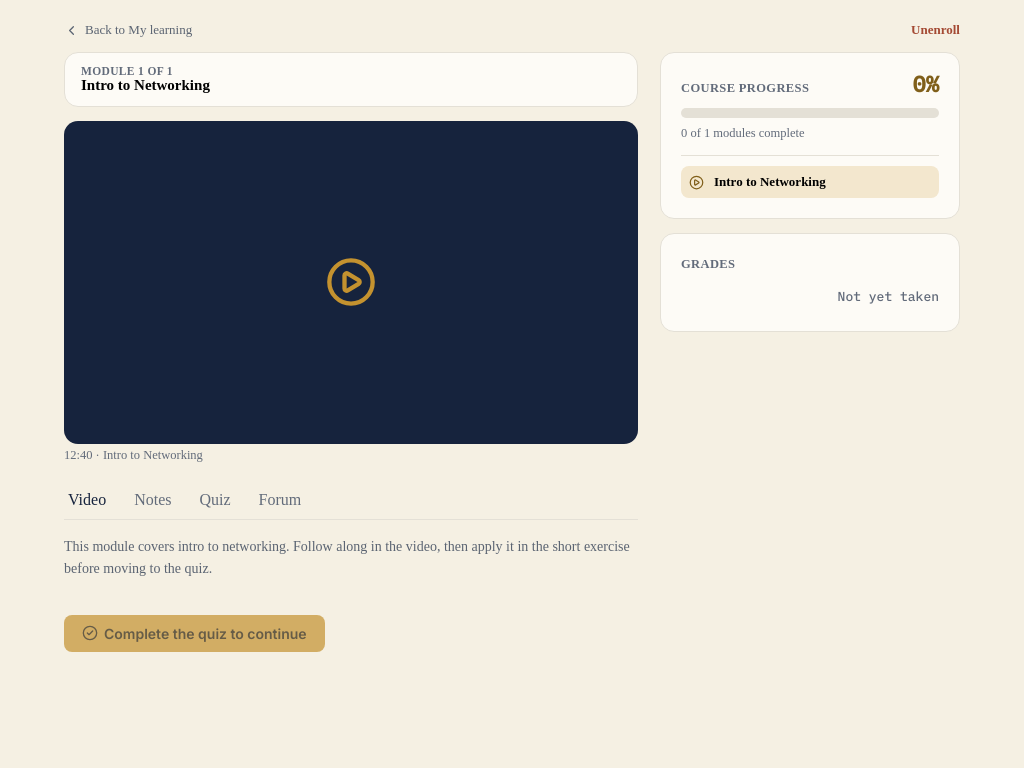
Scenario: LearningScreen — quiz completion gate (#205) › blocks Mark Complete until the module's quiz is taken, then unlocks after submitting
The image size is (1024, 768).
Check: the button "Complete the quiz to continue" is disabled, box [64,615,325,652]
Step 1. Click the tab "quiz" → [215, 500], box [196,481,235,519]
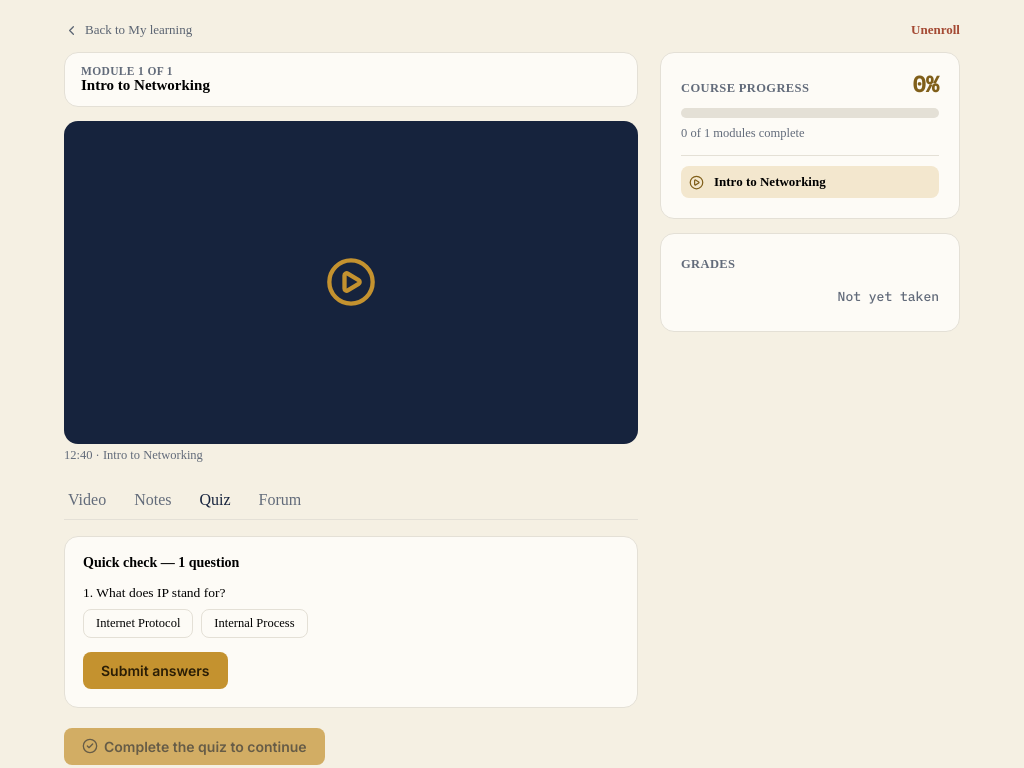
Step 2. Click the text "Internet Protocol" → [138, 623], box [83,609,193,638]
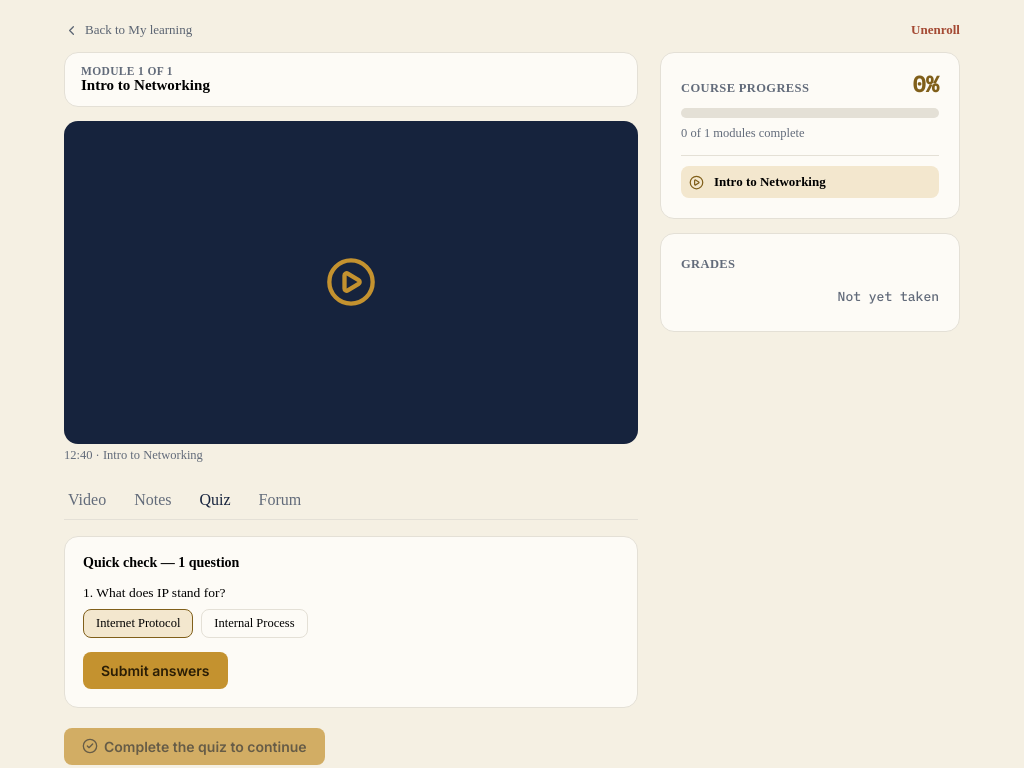
Step 3. Click the button "Submit answers" → [155, 670], box [83,652,228,689]
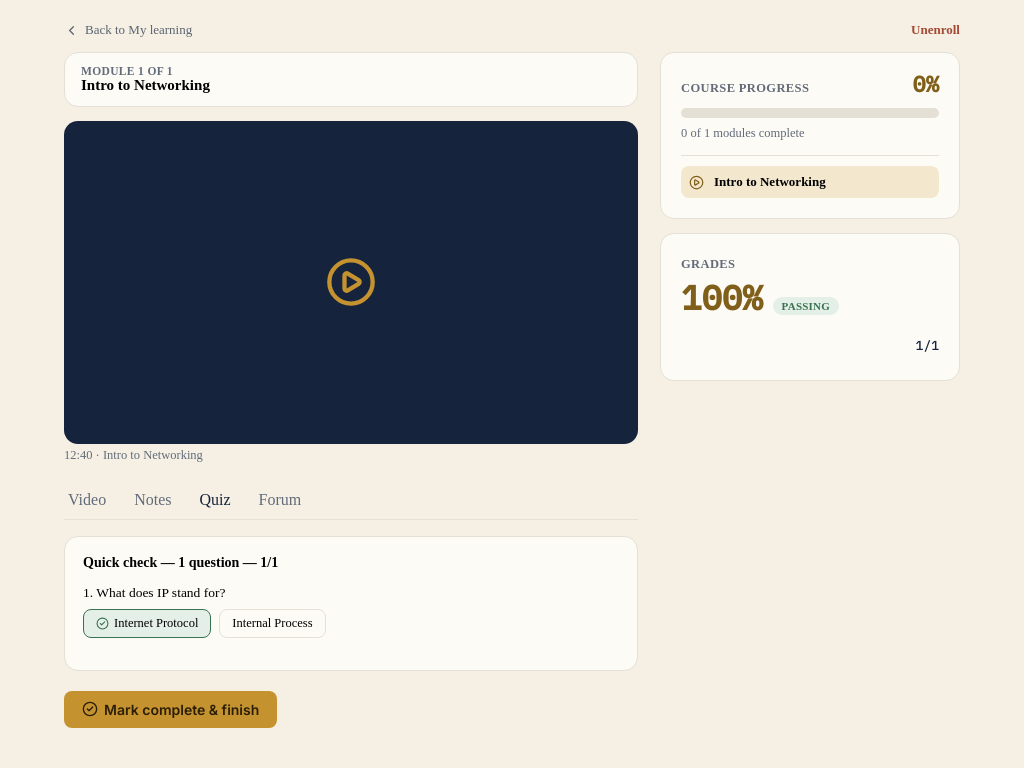
Check: the button "Mark complete & finish" is enabled, box [64,691,277,728]
